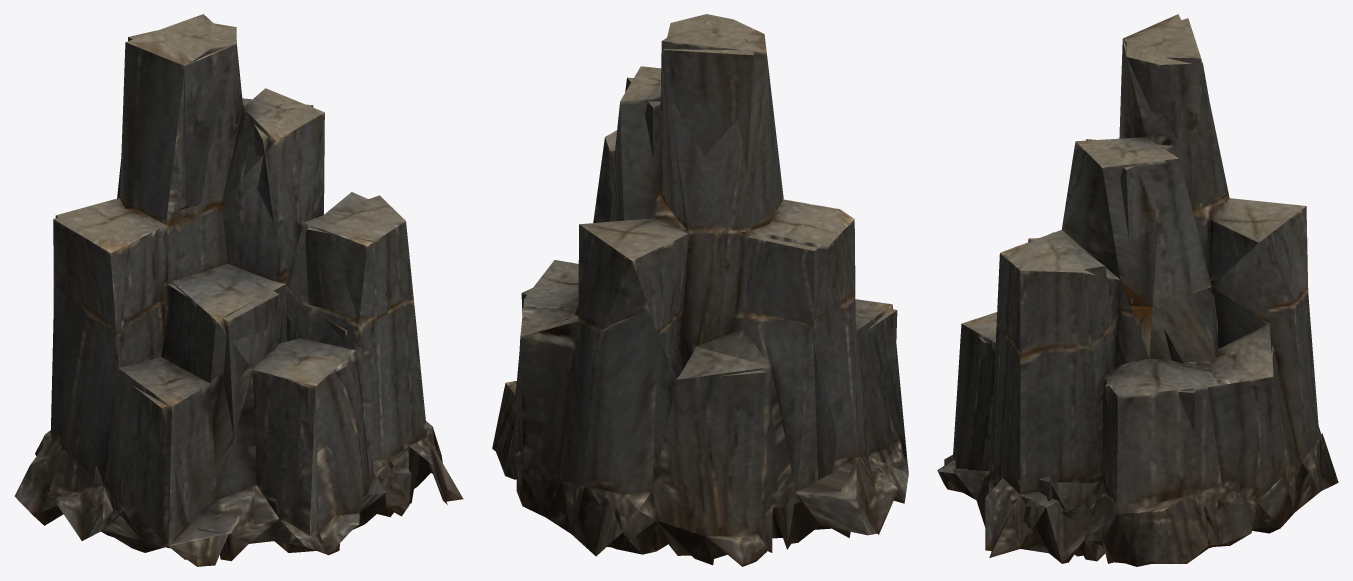
The picture shows the model from 3 angles, left to right: view 1: azimuth 30°, elevation 25°; view 2: azimuth 150°, elevation 25°; view 3: azimuth 270°, elevation 25°; orthographic projection. The views are drawn at different scales.
Parts seen in each view (by area): view 1: volcanic-basalt-columns.001; view 2: volcanic-basalt-columns.001; view 3: volcanic-basalt-columns.001.
Part boxes in pixels (bbox=[...]): volcanic-basalt-columns.001: bbox=[14, 14, 463, 566]; volcanic-basalt-columns.001: bbox=[492, 14, 908, 566]; volcanic-basalt-columns.001: bbox=[937, 14, 1338, 566].
Size of the model in its own units: 3.68 by 4.24 by 3.53.
1 material, 1 textured.
